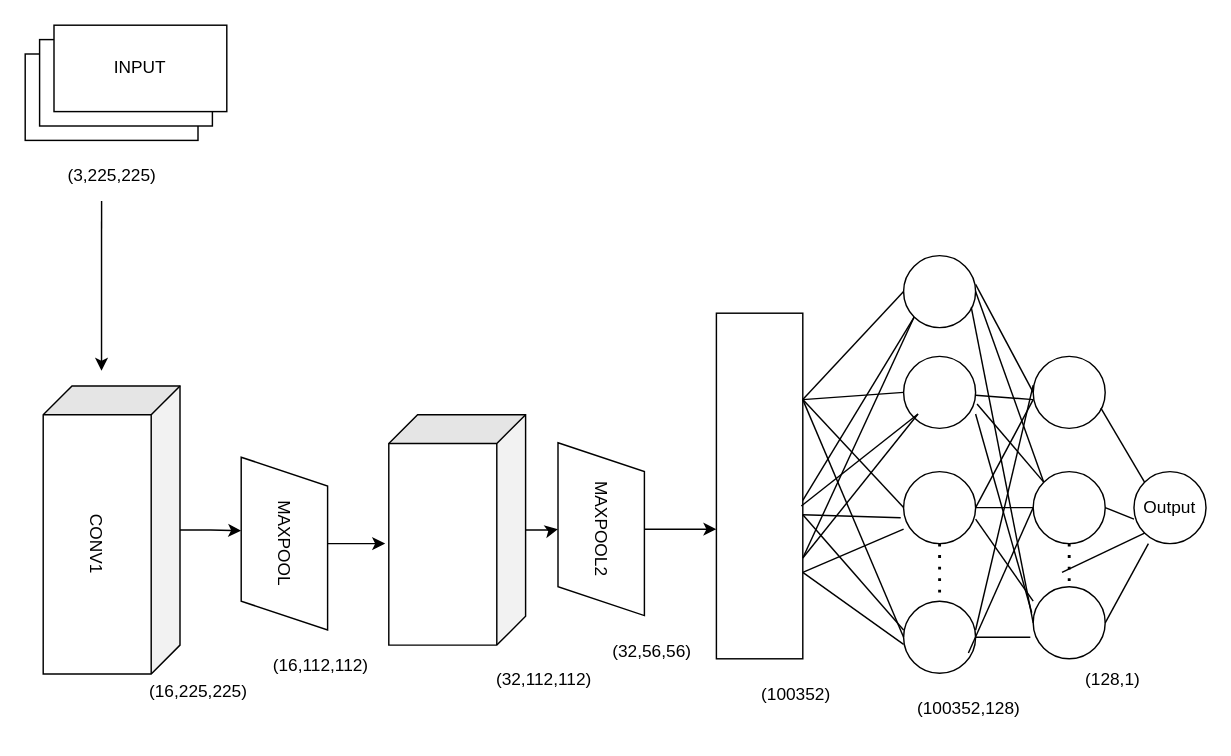
Image size: 1231x756. Some labels were removed from this diagram. Each missing label, with the centre of its shape:
CONV2: the point at 456,529
FLATTEN: the point at 759,485
